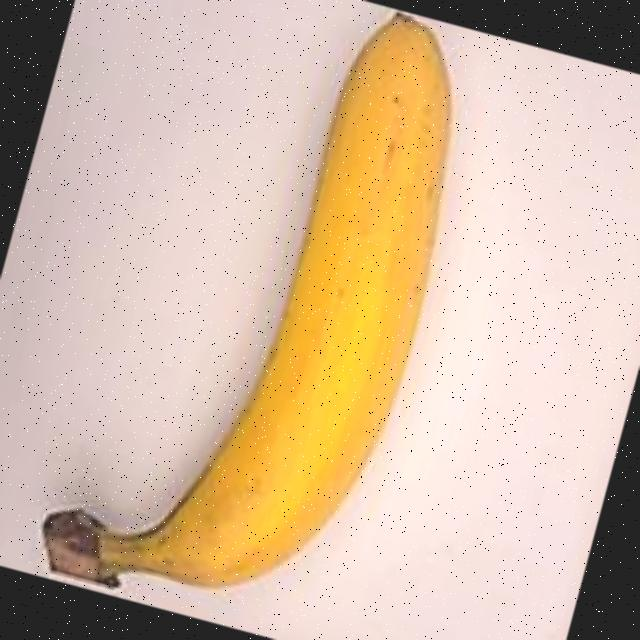Ripe: (4, 0, 569, 640)
